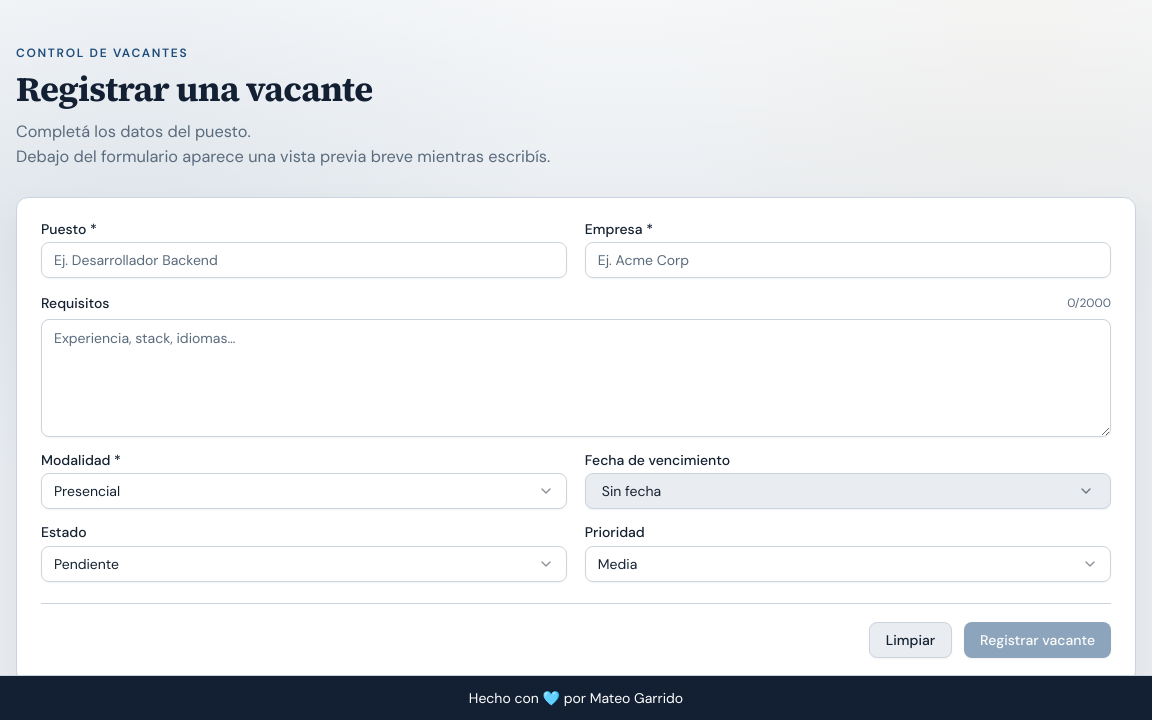
Test: VacanteCreatePage › shows the API error when registration fails
Step 1. Type "Pasante Sistemas" into the field with test id "input-vacante-puesto" → coordinates (304, 260), box [41, 242, 567, 278]
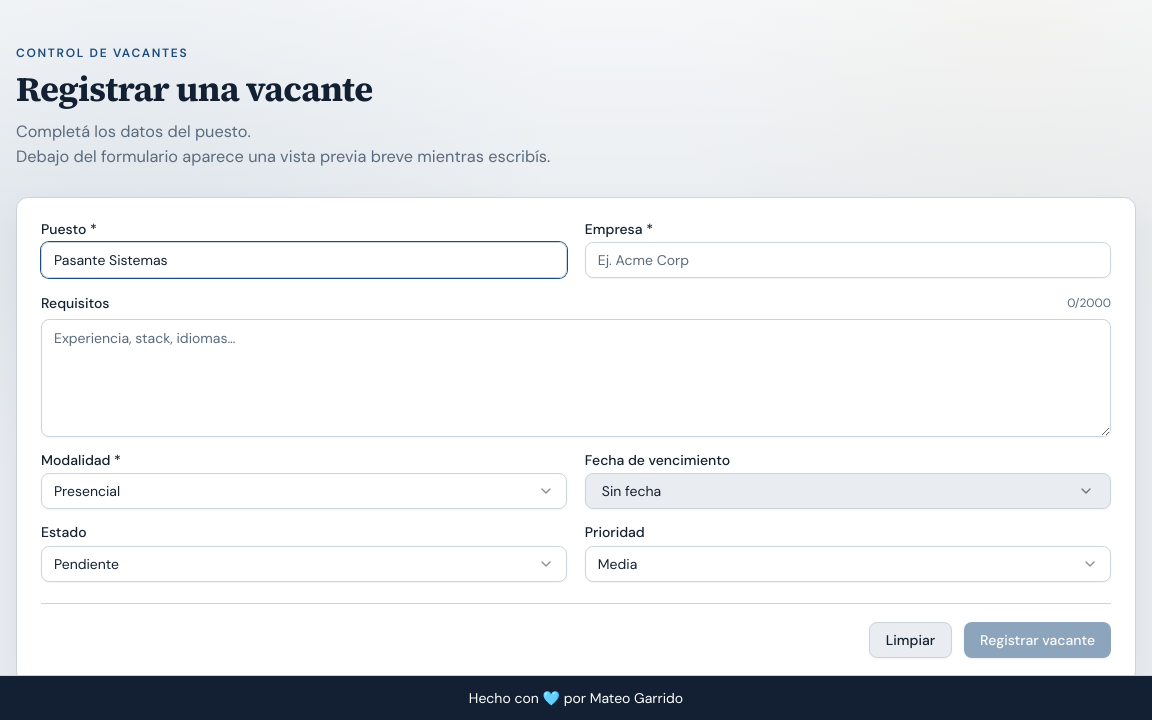
Step 2. Type "Mercado Libre" into the field with test id "input-vacante-empresa" → coordinates (848, 260), box [585, 242, 1111, 278]
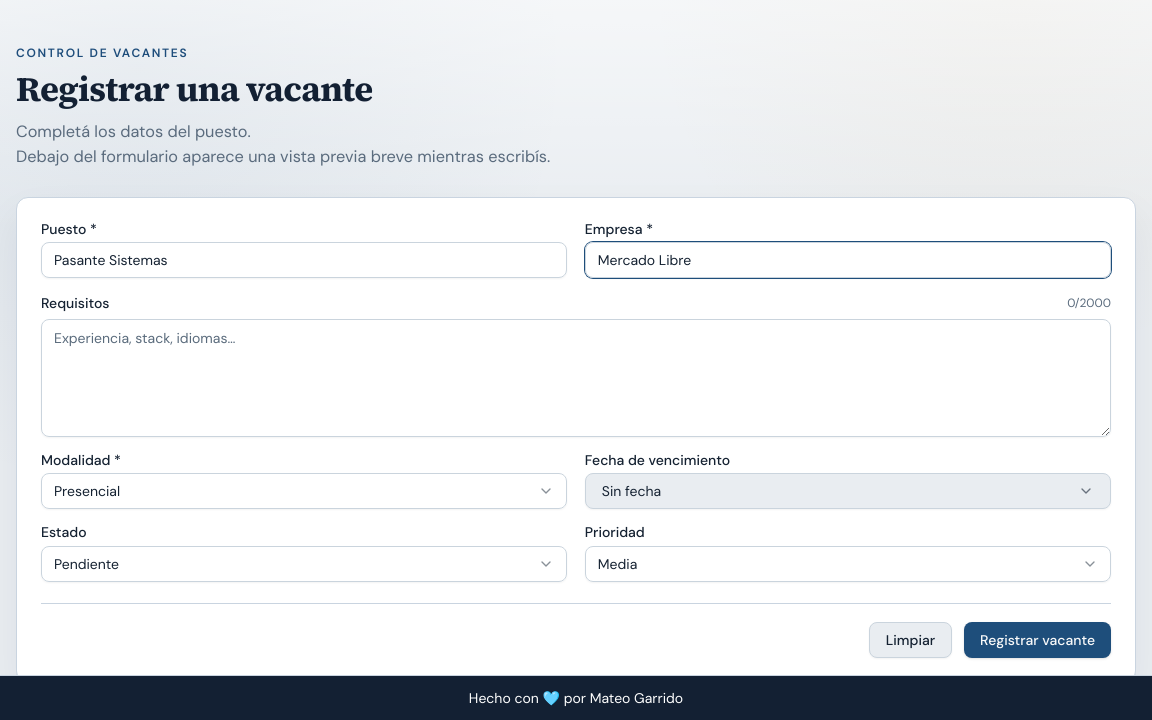
Step 3. Click the button with test id "button-create-vacante" → coordinates (1038, 640), box [964, 622, 1111, 658]
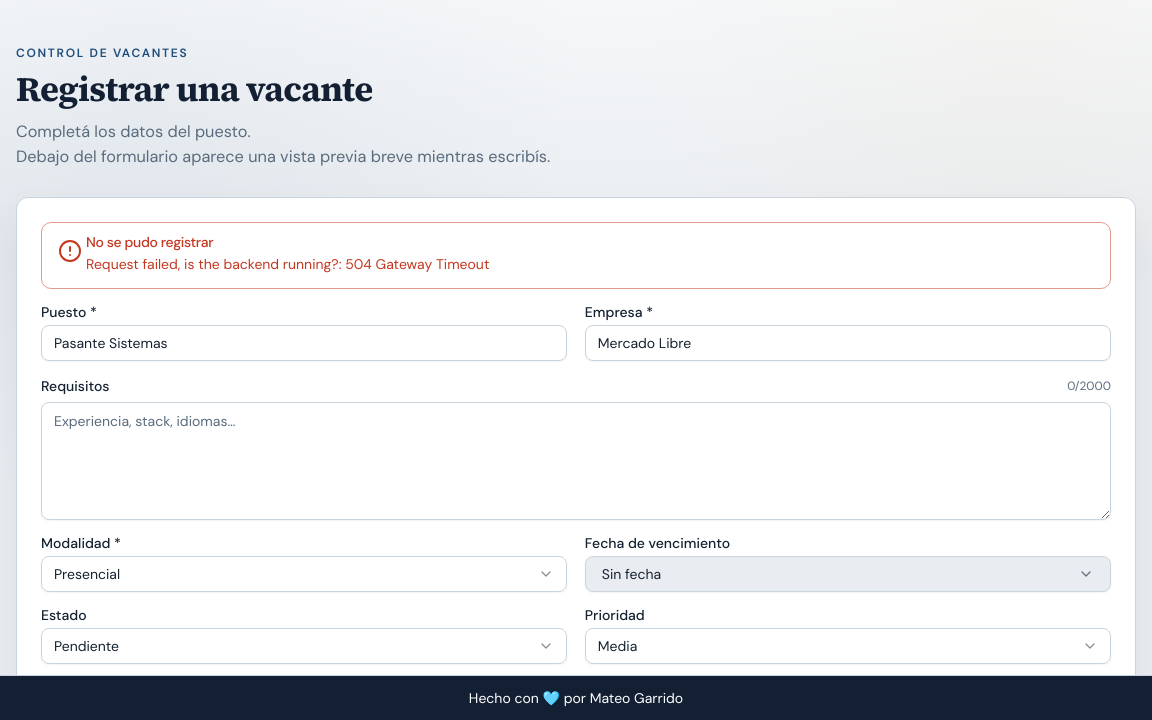
Now the heading "No se pudo registrar" is shown, box [86, 233, 213, 251]
Now the text "Request failed, is the backend running?: 504 Gateway Timeout" is shown, box [86, 255, 489, 273]
